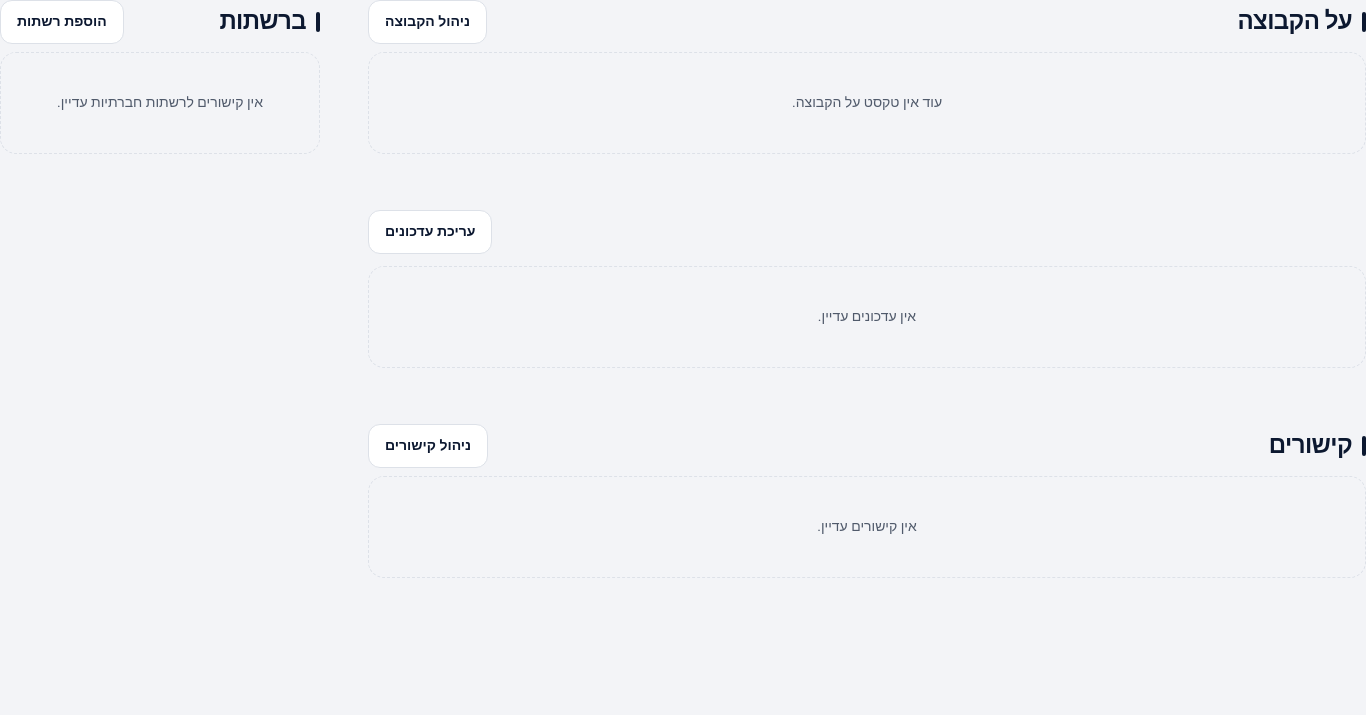
Test: HomeView › edit entry points (#496) › the posts toggle reports aria-expanded and keeps focus across open and close (#521)
What coordinates should you click on to do the following:
click the button "עריכת עדכונים"
I would click on:
 (430, 232)
Its box is [368, 210, 492, 254].
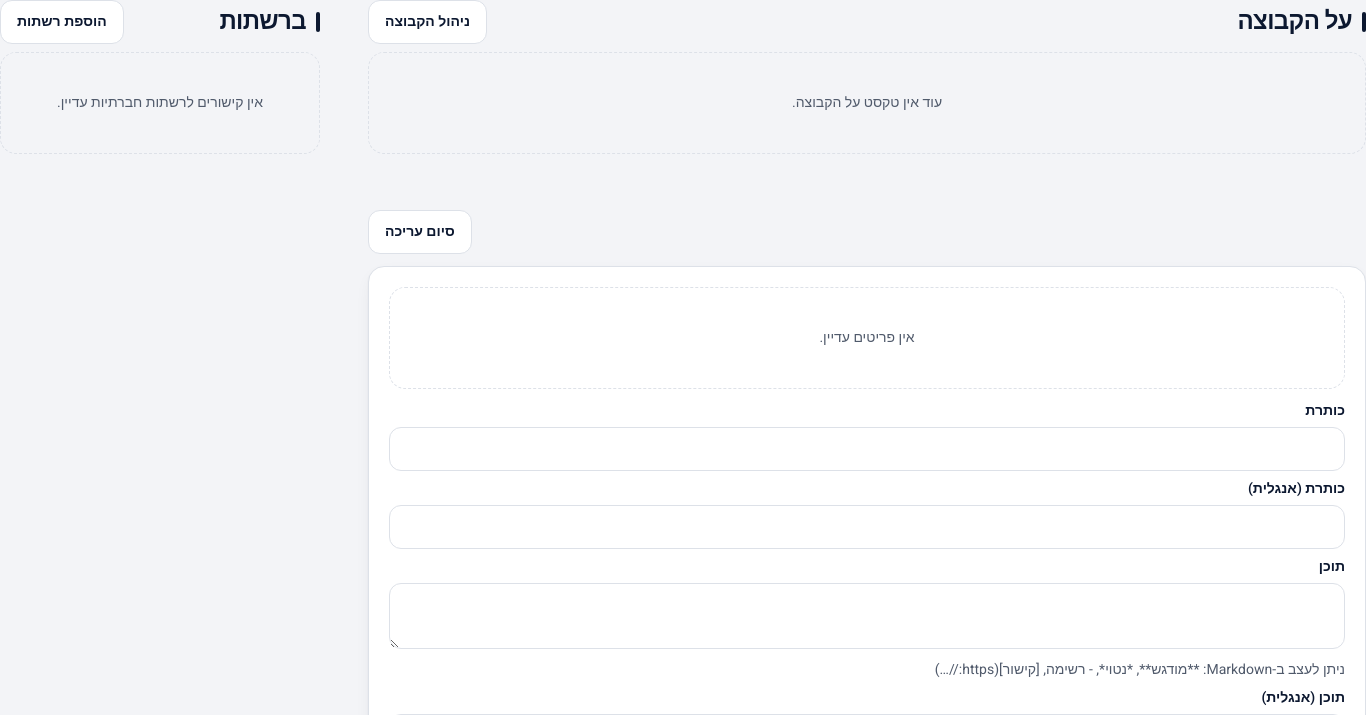
expect the button "סיום עריכה" is shown: met
expect the button "סיום עריכה" is expanded: met
What coordinates should you click on to do the following:
click the button "סיום עריכה"
I would click on:
 (420, 232)
Its box is [368, 210, 472, 254].
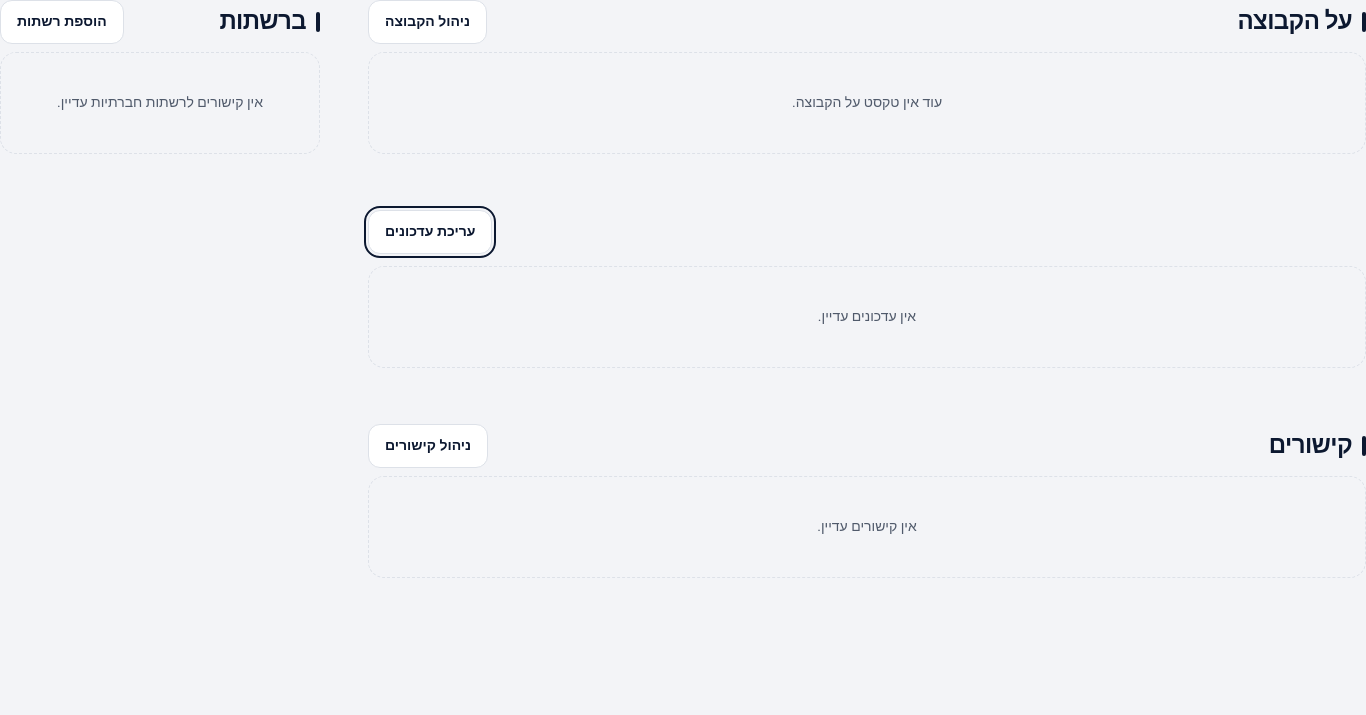
expect the number of buttons is 1: met, box [368, 210, 492, 254]
expect the button "עריכת עדכונים" is shown: met, box [368, 210, 492, 254]
expect the button "עריכת עדכונים" is collapsed: met, box [368, 210, 492, 254]
